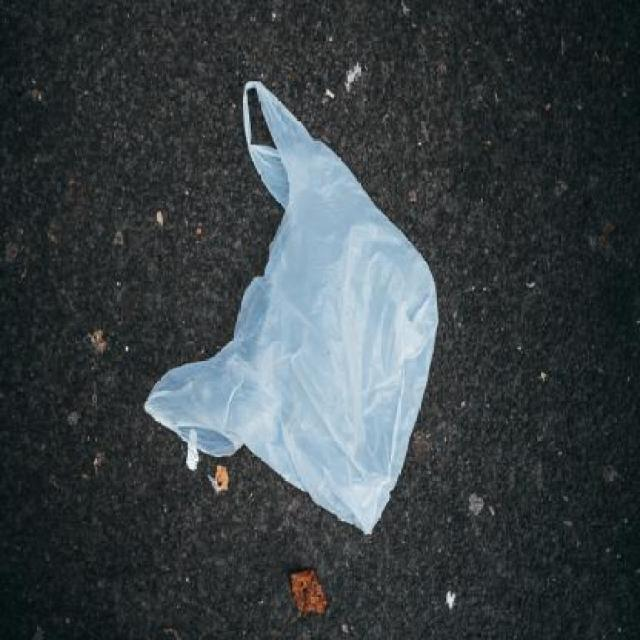plastic bag: (137, 77, 445, 538)
